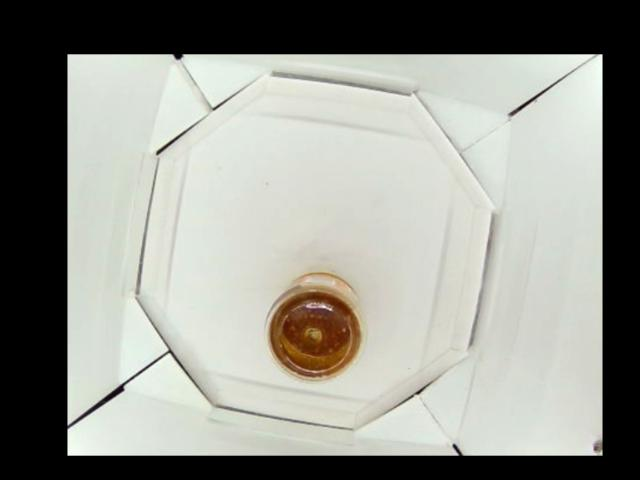Bottle: (264, 271, 363, 383)
